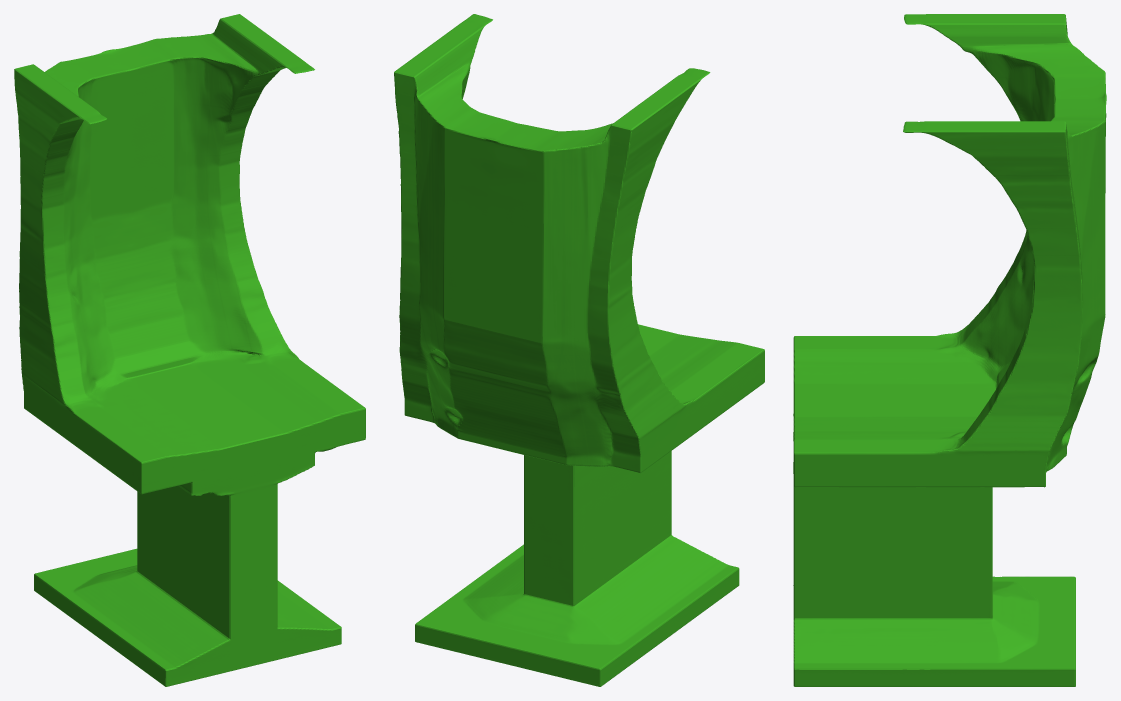
3 renders of one model, left to right at view 1: azimuth 30°, elevation 25°; view 2: azimuth 150°, elevation 25°; view 3: azimuth 270°, elevation 25°, orthographic. The views are drawn at different scales.
Parts seen in each view (by area): view 1: world; view 2: world; view 3: world.
Part boxes in pixels (x1,y1,x2,y2): world: (14,14,365,686); world: (394,14,764,686); world: (793,14,1106,686).
Size of the model in its own units: 0.8902 by 2 by 0.9993.
